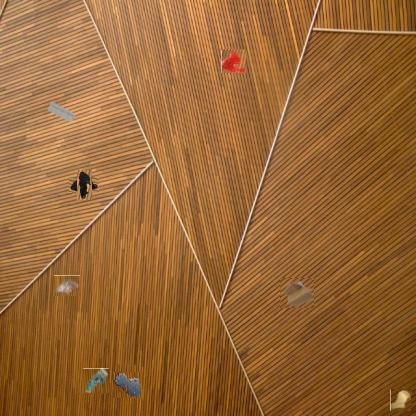dirty: (280, 278, 314, 308), (46, 100, 76, 124), (83, 368, 109, 393), (72, 173, 96, 196), (54, 275, 80, 296), (390, 389, 411, 411)
liquid: (113, 372, 143, 398), (221, 49, 246, 73)
